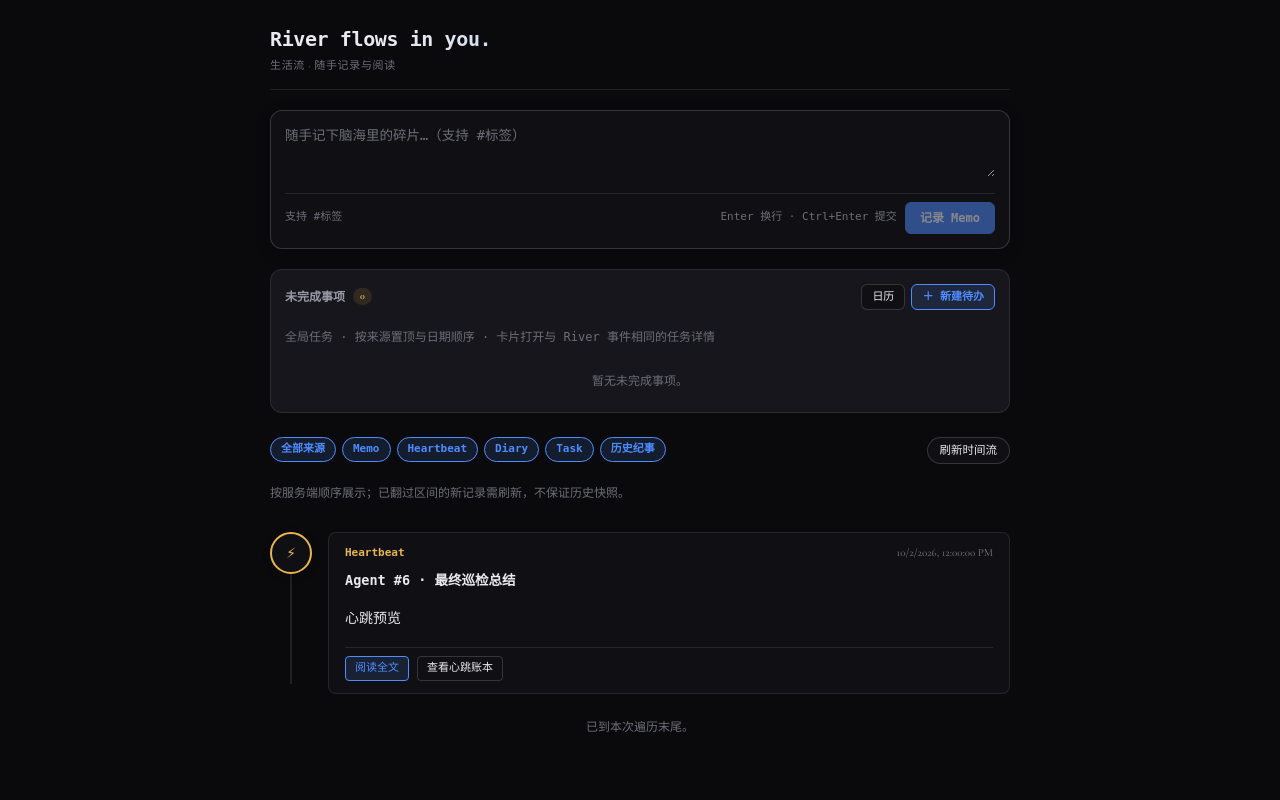
River CP1 source reading › reuses Heartbeat detail GET and renders final content only, not seed/tool/error, with no ack/wakeup
What coordinates should you click on to do the following:
click the button "阅读全文"
I would click on:
 (377, 668)
Its box is [345, 656, 409, 681].
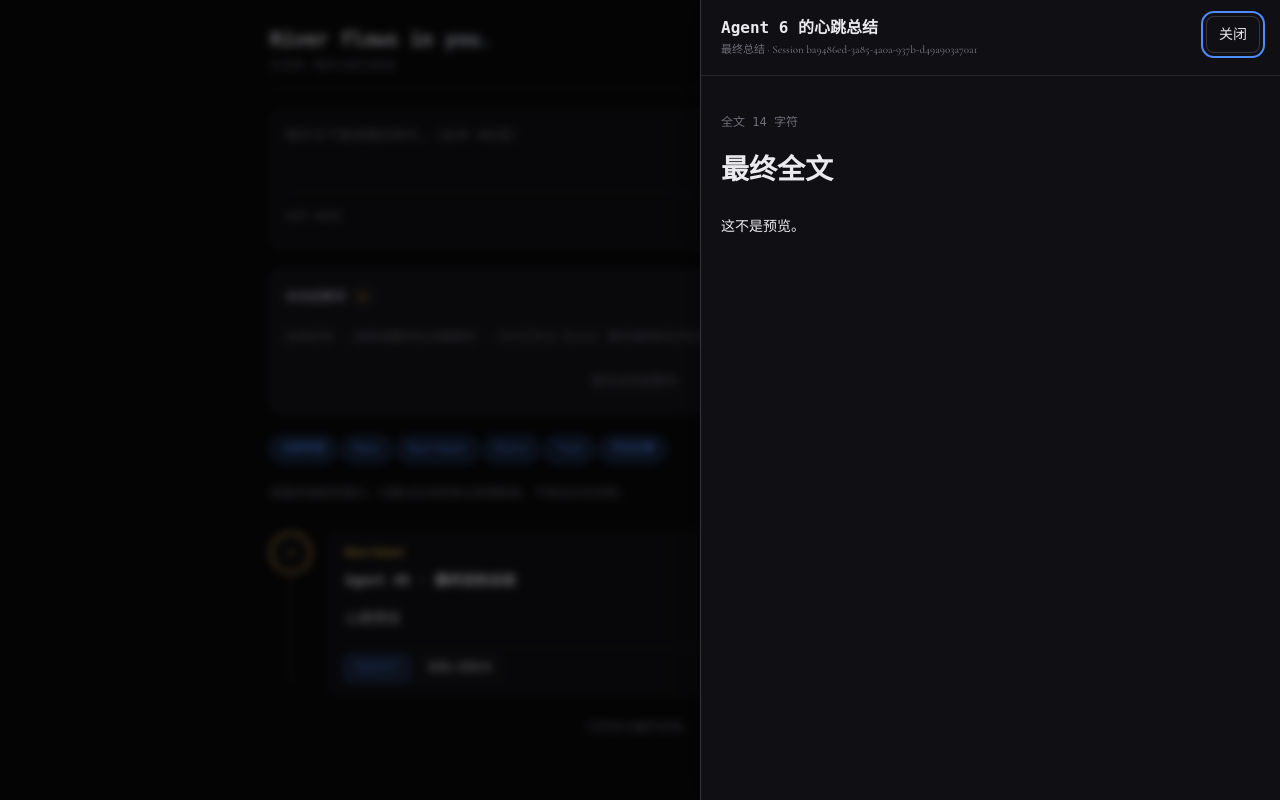
Result: the heading "最终全文" is shown at [721, 153, 833, 186]
Result: the text "这不是预览。" is shown at [721, 218, 805, 234]
